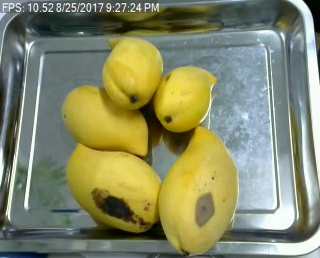Mango: (155, 125, 238, 256), (67, 143, 163, 234), (62, 84, 150, 156), (104, 36, 163, 109), (156, 66, 218, 133)
